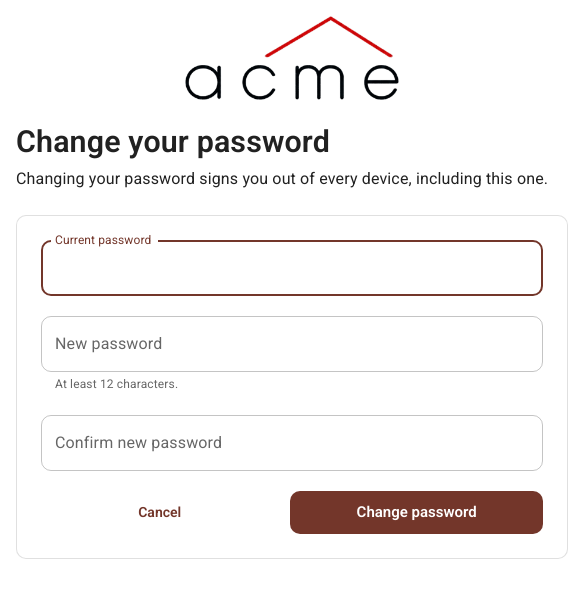
Scenario: changing your password voluntarily › refuses two new passwords that do not match
This screenshot has width=585, height=599.
Type "old password 12" into the password field labelled "Current password" at point(292, 268), box [41,240,543,296]
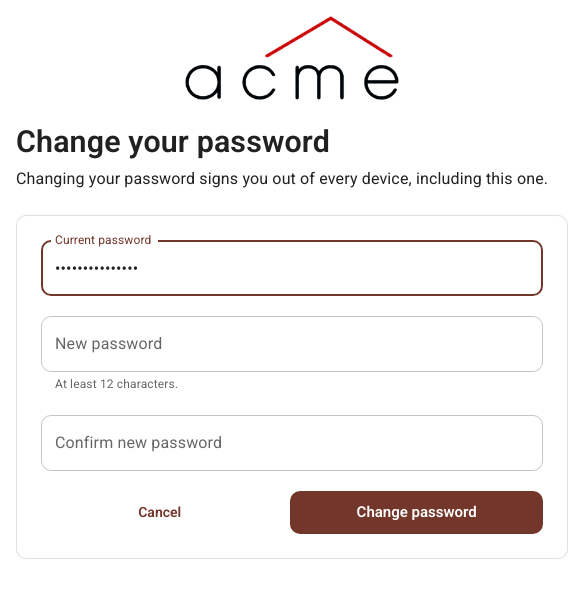
Type "brand new password" into the password field labelled "New password" at point(292, 344), box [41,316,543,372]
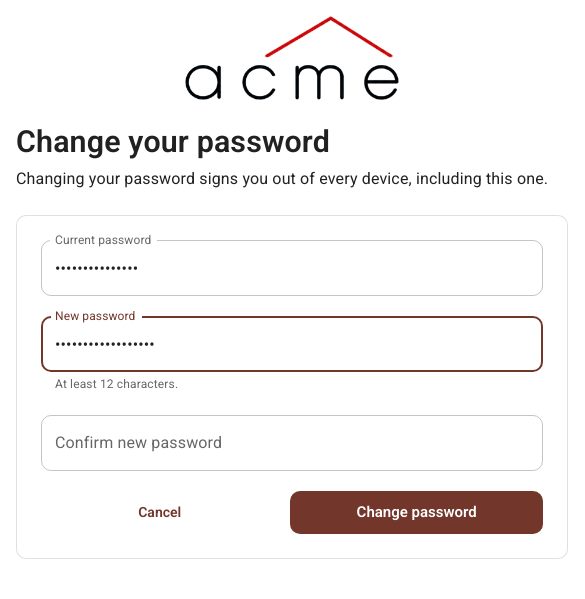
Type "something else entirely" into the password field labelled "Confirm new password" at point(292, 443), box [41,415,543,471]
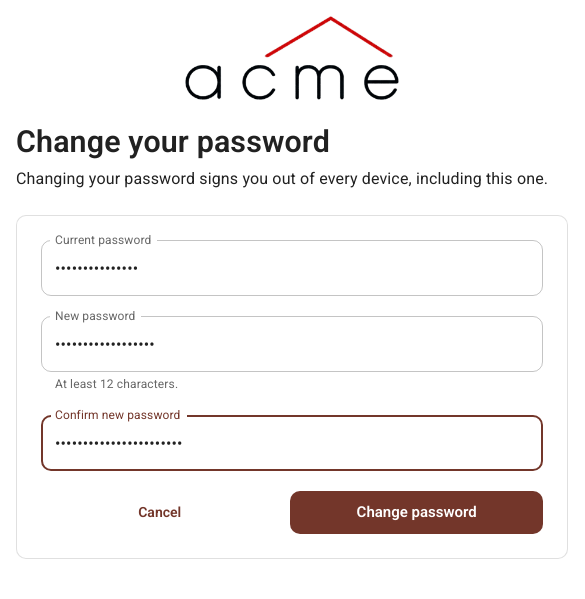
Click the button "Change password" at point(417, 513), box [290,491,543,534]
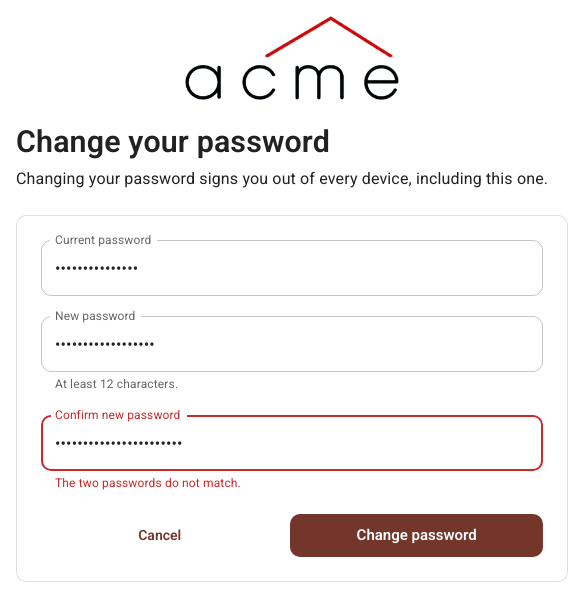
Expected: the text "The two passwords do not match." is shown, [55,476,241,490]
